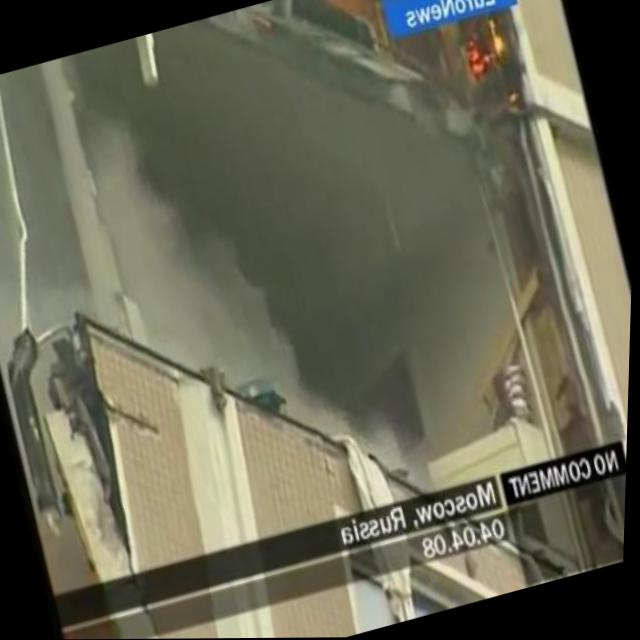fire: (454, 8, 522, 90)
